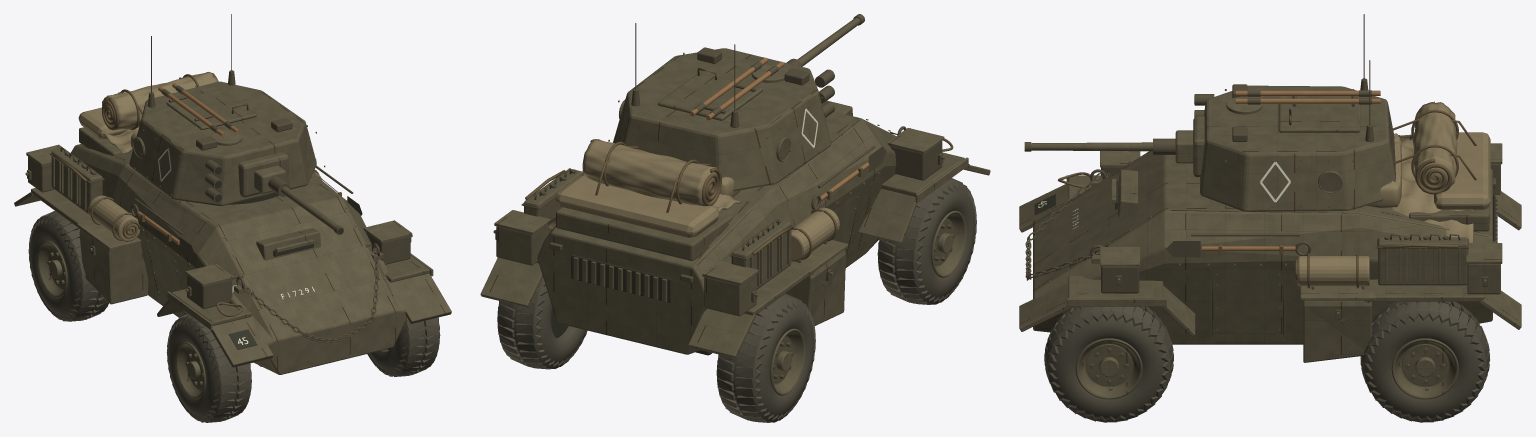
The model's file is reference-armored-car-high.glb.
The picture shows the model from 3 angles, left to right: view 1: azimuth 30°, elevation 25°; view 2: azimuth 150°, elevation 25°; view 3: azimuth 270°, elevation 25°; orthographic projection. The views are drawn at different scales.
Visible parts, largest first — view 1: hull--armor, turret-pivot--armor, front-fenders--armor, wheel-left-front--rubber, wheel-left-rear--rubber, rear-stowage--canvas, side-boxes--armor, wheel-right-front--rubber, hull--armor-edge, front-fenders--armor-edge, front-fenders--steel, hatch--armor (+15 smaller); view 2: hull--armor, turret-pivot--armor, rear-stowage--canvas, wheel-left-rear--rubber, wheel-left-front--rubber, rear-fenders--armor, wheel-right-rear--rubber, front-fenders--armor, rear-boxes--armor, rear-stowage--armor, side-boxes--armor, hatch--armor (+17 smaller); view 3: hull--armor, turret-pivot--armor, rear-stowage--canvas, wheel-right-rear--rubber, wheel-right-front--rubber, hull--armor-edge, front-fenders--armor, side-boxes--armor, rear-stowage--armor, rear-fenders--armor, wheel-right-front--armor, wheel-right-rear--armor (+16 smaller).
Boxes of the visible parts, x1,y1,x2,y2 form: hull--armor: [71, 127, 406, 374]; turret-pivot--armor: [129, 81, 316, 206]; front-fenders--armor: [157, 256, 451, 367]; wheel-left-front--rubber: [166, 314, 251, 422]; wheel-left-rear--rubber: [28, 211, 108, 321]; rear-stowage--canvas: [78, 72, 322, 241]; side-boxes--armor: [79, 229, 148, 304]; wheel-right-front--rubber: [367, 317, 440, 376]; hull--armor-edge: [75, 145, 339, 316]; front-fenders--armor-edge: [167, 220, 433, 329]; front-fenders--steel: [187, 231, 410, 308]; hatch--armor: [166, 89, 256, 129]; hull--armor: [537, 100, 896, 354]; turret-pivot--armor: [613, 48, 831, 191]; rear-stowage--canvas: [546, 139, 839, 261]; wheel-left-rear--rubber: [716, 293, 815, 422]; wheel-left-front--rubber: [877, 178, 976, 304]; rear-fenders--armor: [480, 257, 826, 358]; wheel-right-rear--rubber: [497, 277, 587, 369]; front-fenders--armor: [858, 152, 990, 243]; rear-boxes--armor: [496, 225, 756, 316]; rear-stowage--armor: [524, 169, 791, 289]; side-boxes--armor: [785, 250, 845, 325]; hatch--armor: [658, 73, 763, 120]; hull--armor: [1033, 151, 1497, 344]; turret-pivot--armor: [1200, 85, 1395, 211]; rear-stowage--canvas: [1297, 102, 1490, 286]; wheel-right-rear--rubber: [1360, 301, 1489, 422]; wheel-right-front--rubber: [1044, 306, 1173, 422]; hull--armor-edge: [1112, 178, 1488, 341]; front-fenders--armor: [1019, 176, 1195, 336]; side-boxes--armor: [1303, 300, 1371, 362]; rear-stowage--armor: [1378, 137, 1468, 285]; rear-fenders--armor: [1340, 191, 1521, 329]; wheel-right-front--armor: [1075, 338, 1142, 399]; wheel-right-rear--armor: [1391, 338, 1458, 399].
Bounding box in the file's own units: 2.76 × 3.32 × 4.61.
Materials: 10 (9 with a texture image).
